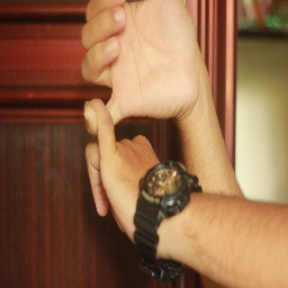S: (71, 1, 205, 218)
